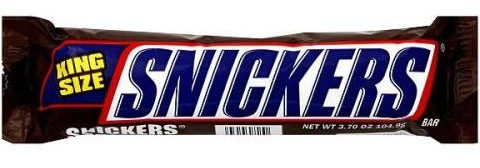snickers: (111, 46, 430, 118)
